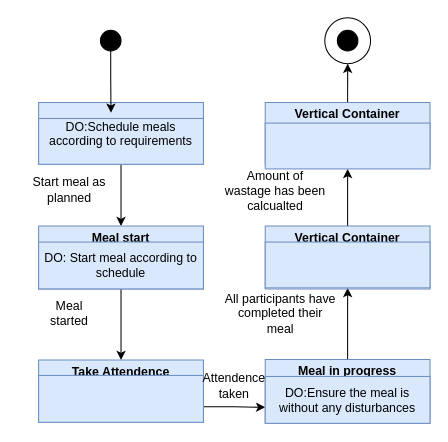
Some shapes in this 448 by 442 pixel diagram are drawn without their labels. Here are the shapes that lost their labels. From the top down, the box of each, then its label:
(38, 101, 203, 164): Meal scheduled
(264, 122, 430, 169): Do:Generate reuired report of of the wastage for the particualr meal
(264, 241, 430, 288): DO: Record the amount of food wasted for the meal
(38, 374, 203, 422): DO:Mark attendence of students present for the meal
